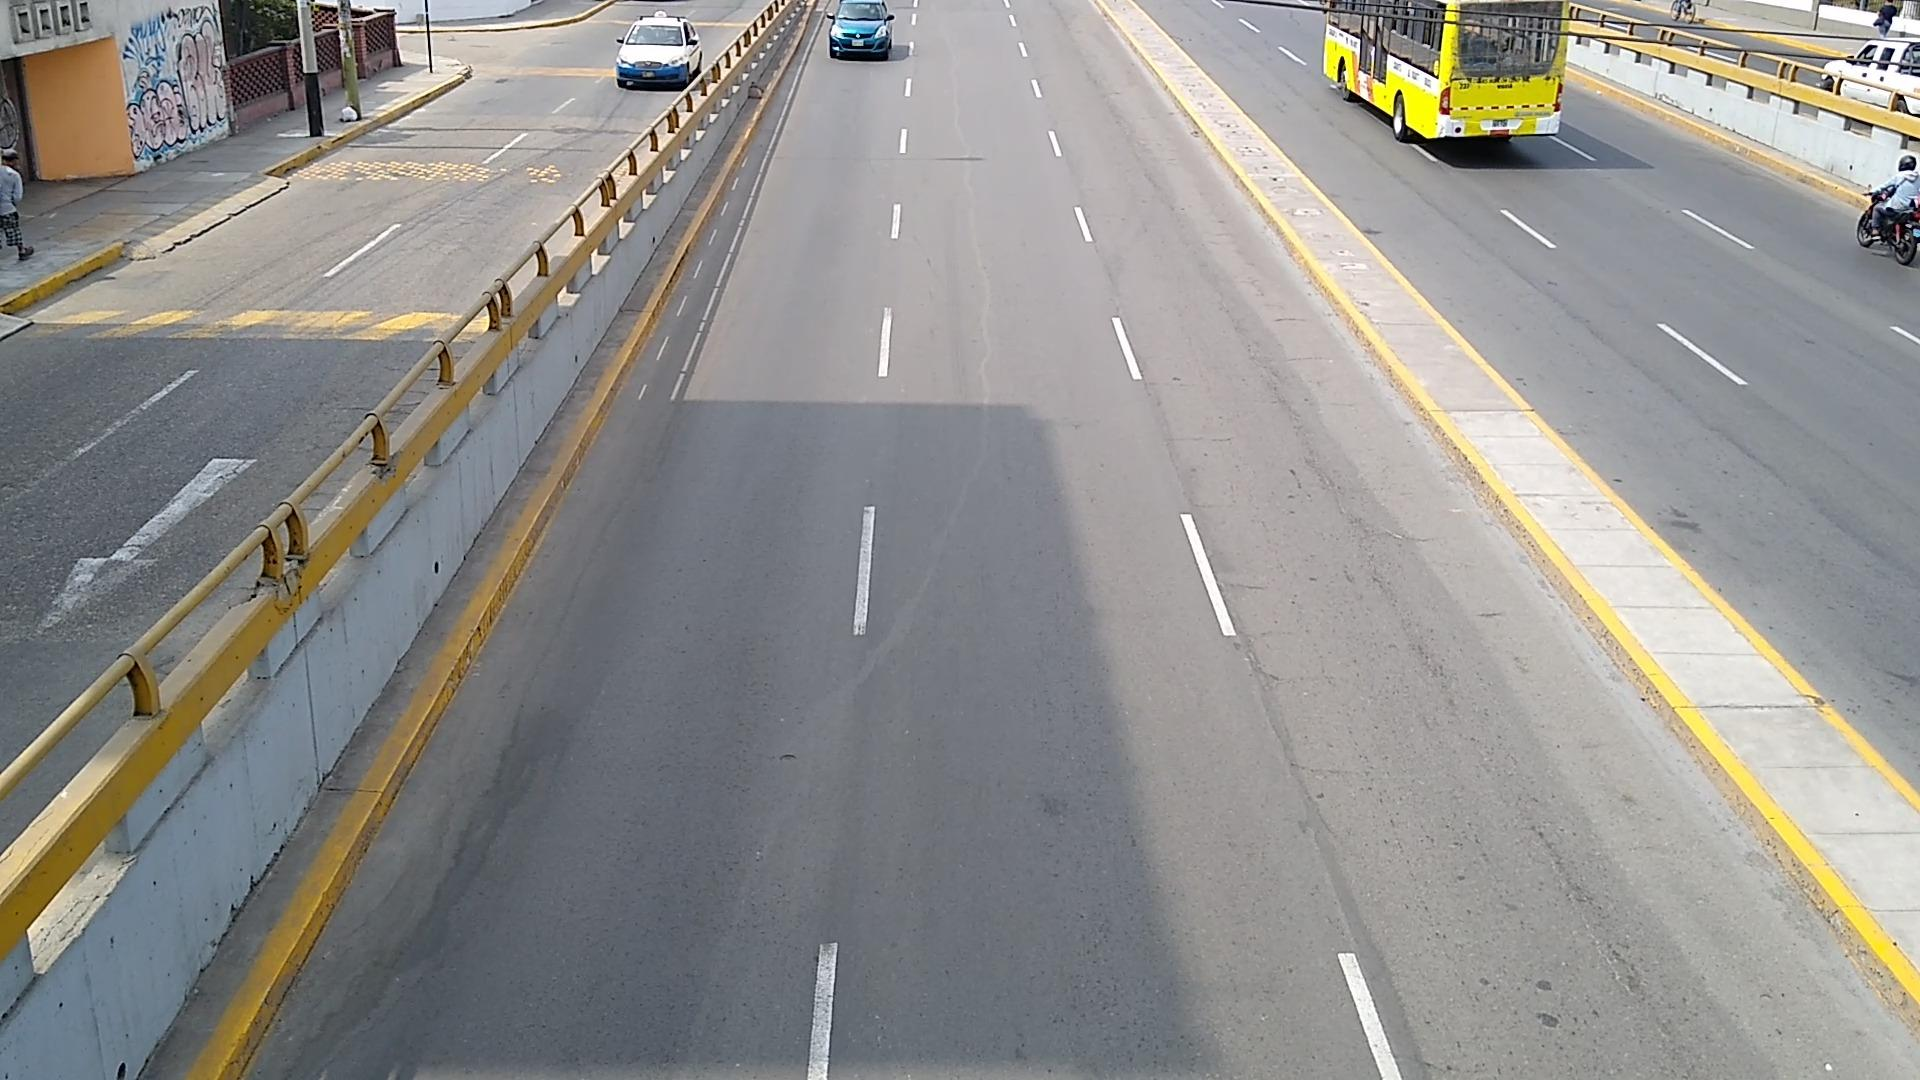bus: (1320, 0, 1568, 146)
car: (1822, 37, 1920, 116), (615, 12, 702, 90), (828, 0, 893, 58)
motorcycle: (1857, 210, 1920, 266)
motorcyclist: (1871, 154, 1920, 240)
